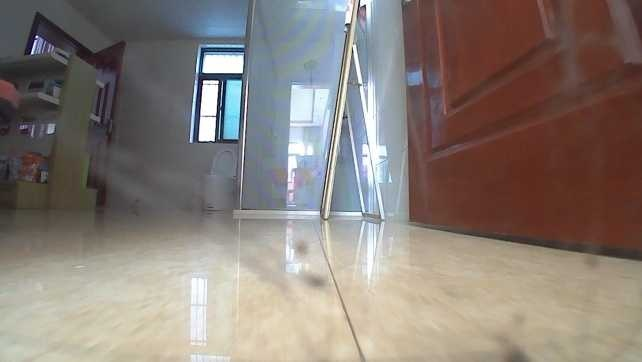toilet: (197, 147, 238, 211)
